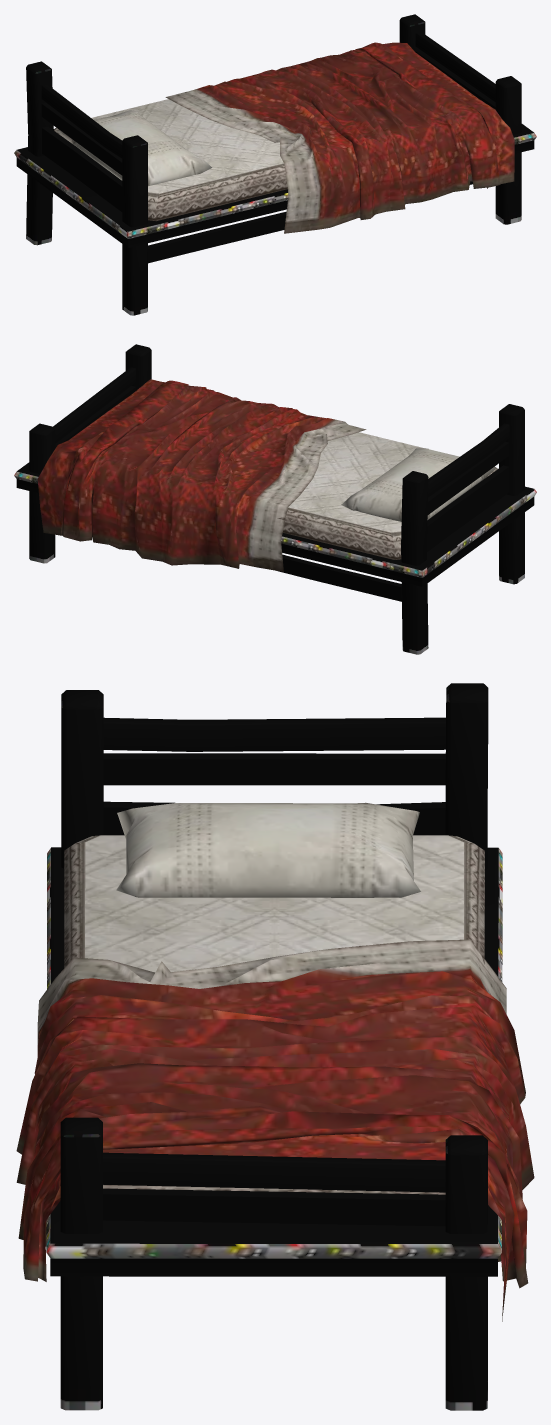
File: o_mdl_env_propFurnitureBedSingleSimpleA_c2-transformed.glb
3 renders of one model, top to bottom at view 1: azimuth 30°, elevation 25°; view 2: azimuth 150°, elevation 25°; view 3: azimuth 270°, elevation 25°, orthographic. The views are drawn at different scales.
Visible parts, largest first — view 1: default; view 2: default; view 3: default.
Part boxes in pixels (left/top/right/bottom): default: left=14, top=14, right=536, bottom=315; default: left=14, top=344, right=536, bottom=654; default: left=16, top=683, right=534, bottom=1410.
Size of the model in its own units: 2.74 by 1.11 by 1.5.
2 materials, 2 textured.
